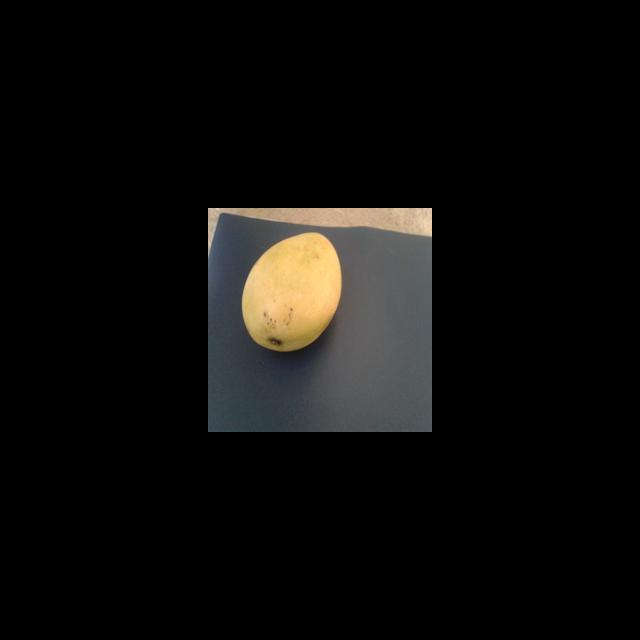Mango: (241, 231, 342, 352)
